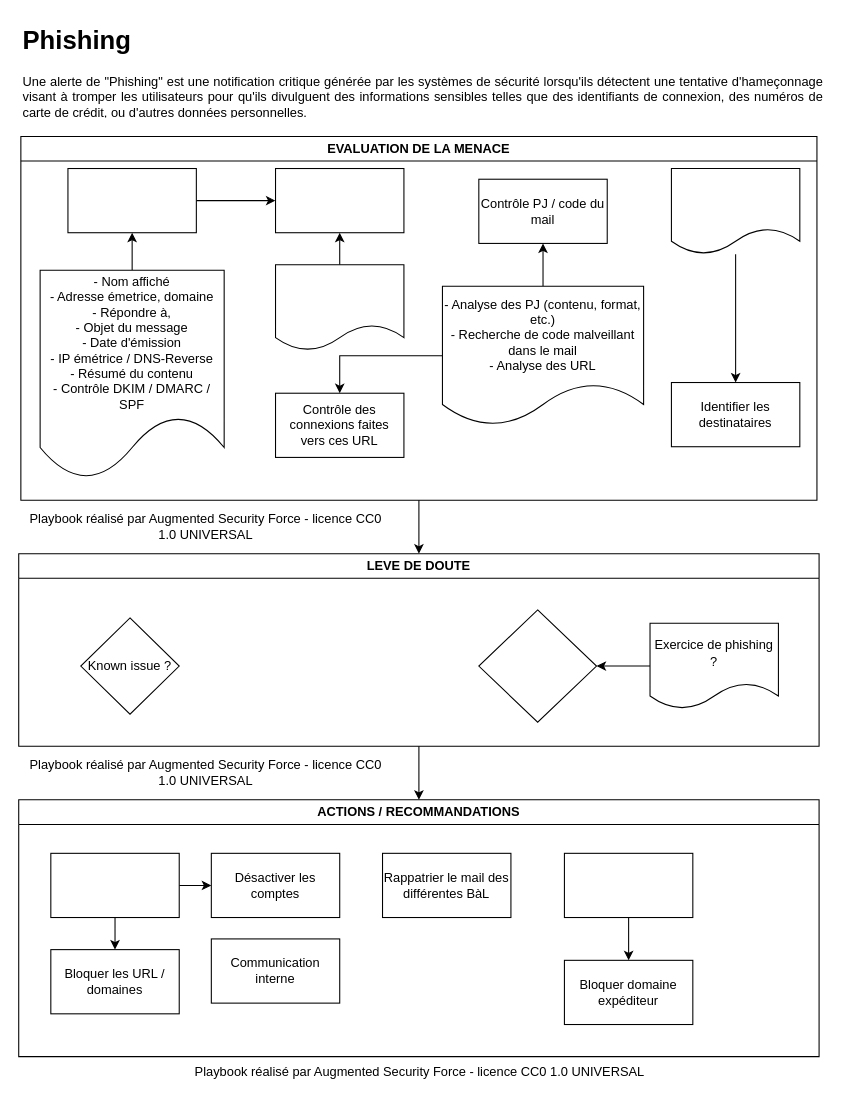
Image size: 842x1106. Some labels were removed from this diagram. The centre of each missing label's shape, as x and y in pixels:
"- Règle de transfert - Délégation" goes at pixel 735 210.
"Actions en cours" goes at pixel 537 665.
"Bloquer expéditeur" goes at pixel 628 885.
"Isoler le poste" goes at pixel 114 885.
"mail déjà reçu par ce domaine ?" goes at pixel 339 307.
"Rechercher les précédents" goes at pixel 339 200.
"Récuperer le mail / entêtes" goes at pixel 131 200.
